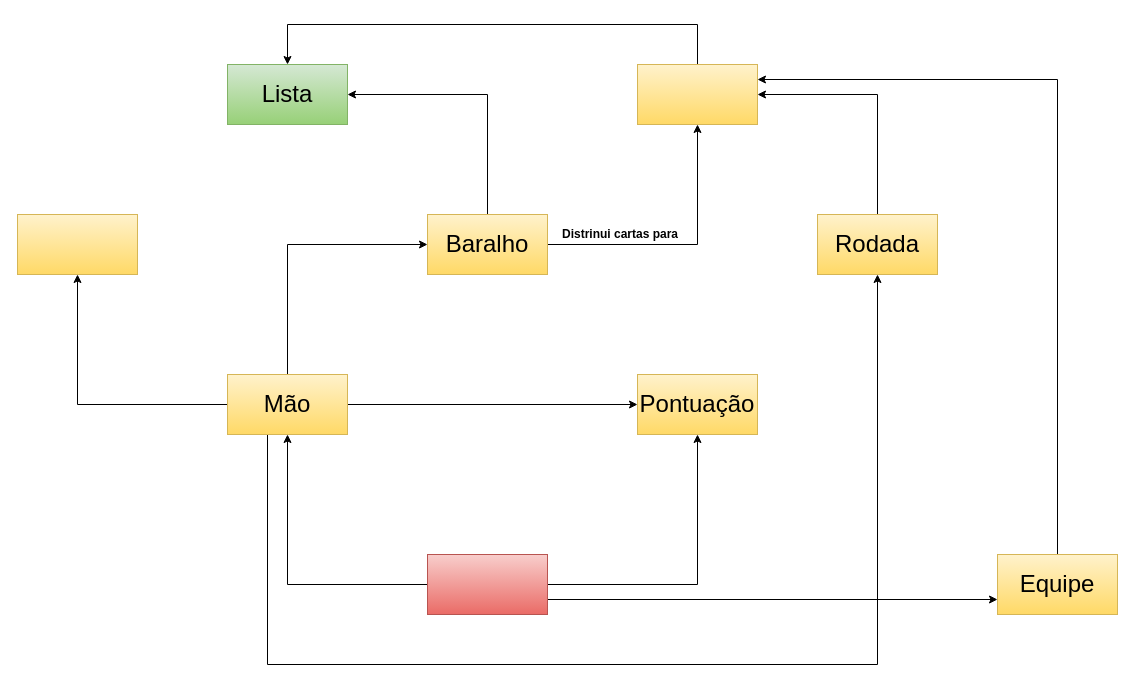
Some shapes in this 1135 by 690 pixel diagram are drawn without their labels. The centre of each missing label's shape, as x and y in pixels:
"Jogador" belongs at pixel 697 94.
"Partida" belongs at pixel 487 584.
"Pedidos" belongs at pixel 77 244.
